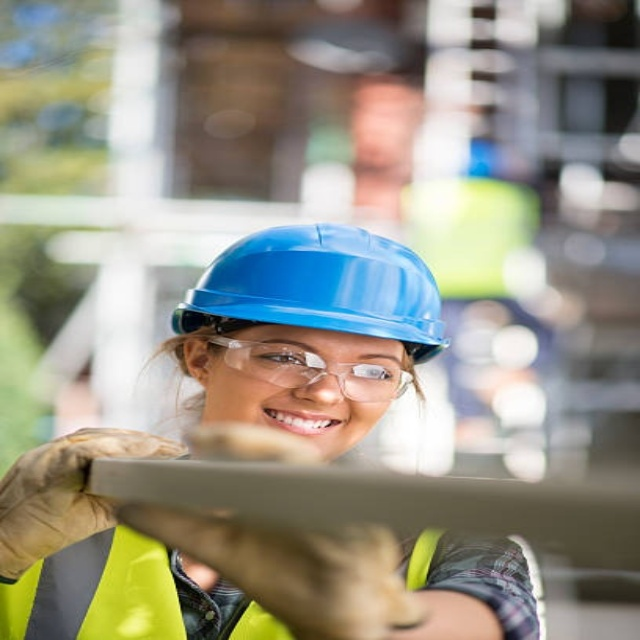Gafas: (202, 336, 421, 402)
Guantes: (132, 505, 425, 640), (0, 425, 190, 582)
Sin_mascara: (262, 407, 347, 436)
